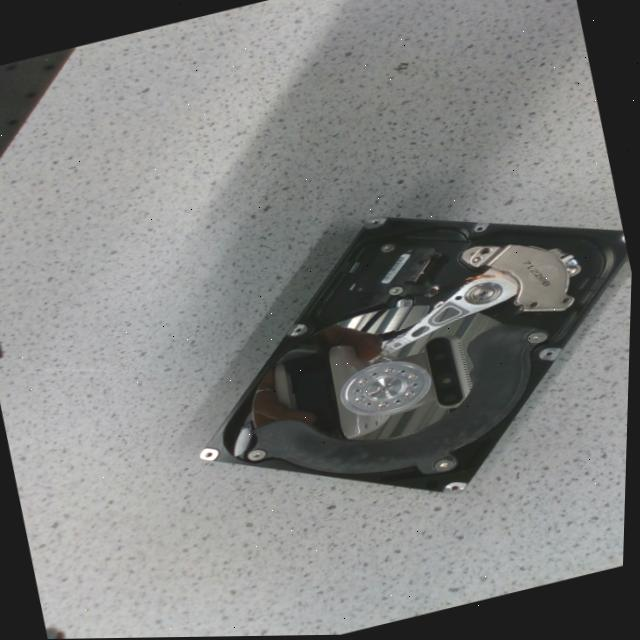actuator arm: (386, 272, 518, 354)
actuator axis: (467, 283, 502, 305)
case: (203, 217, 630, 495)
magnet: (484, 246, 575, 312)
pcb connector: (353, 243, 435, 297)
platter: (254, 306, 498, 443)
platter holder: (343, 361, 433, 416)
platter protector: (254, 325, 536, 478)
screw: (436, 456, 459, 473), (528, 332, 549, 345), (249, 450, 268, 461), (381, 244, 396, 253), (391, 287, 403, 296), (355, 397, 366, 404), (405, 392, 416, 399), (384, 369, 395, 376), (407, 375, 419, 381), (378, 404, 389, 410), (359, 380, 369, 386)
